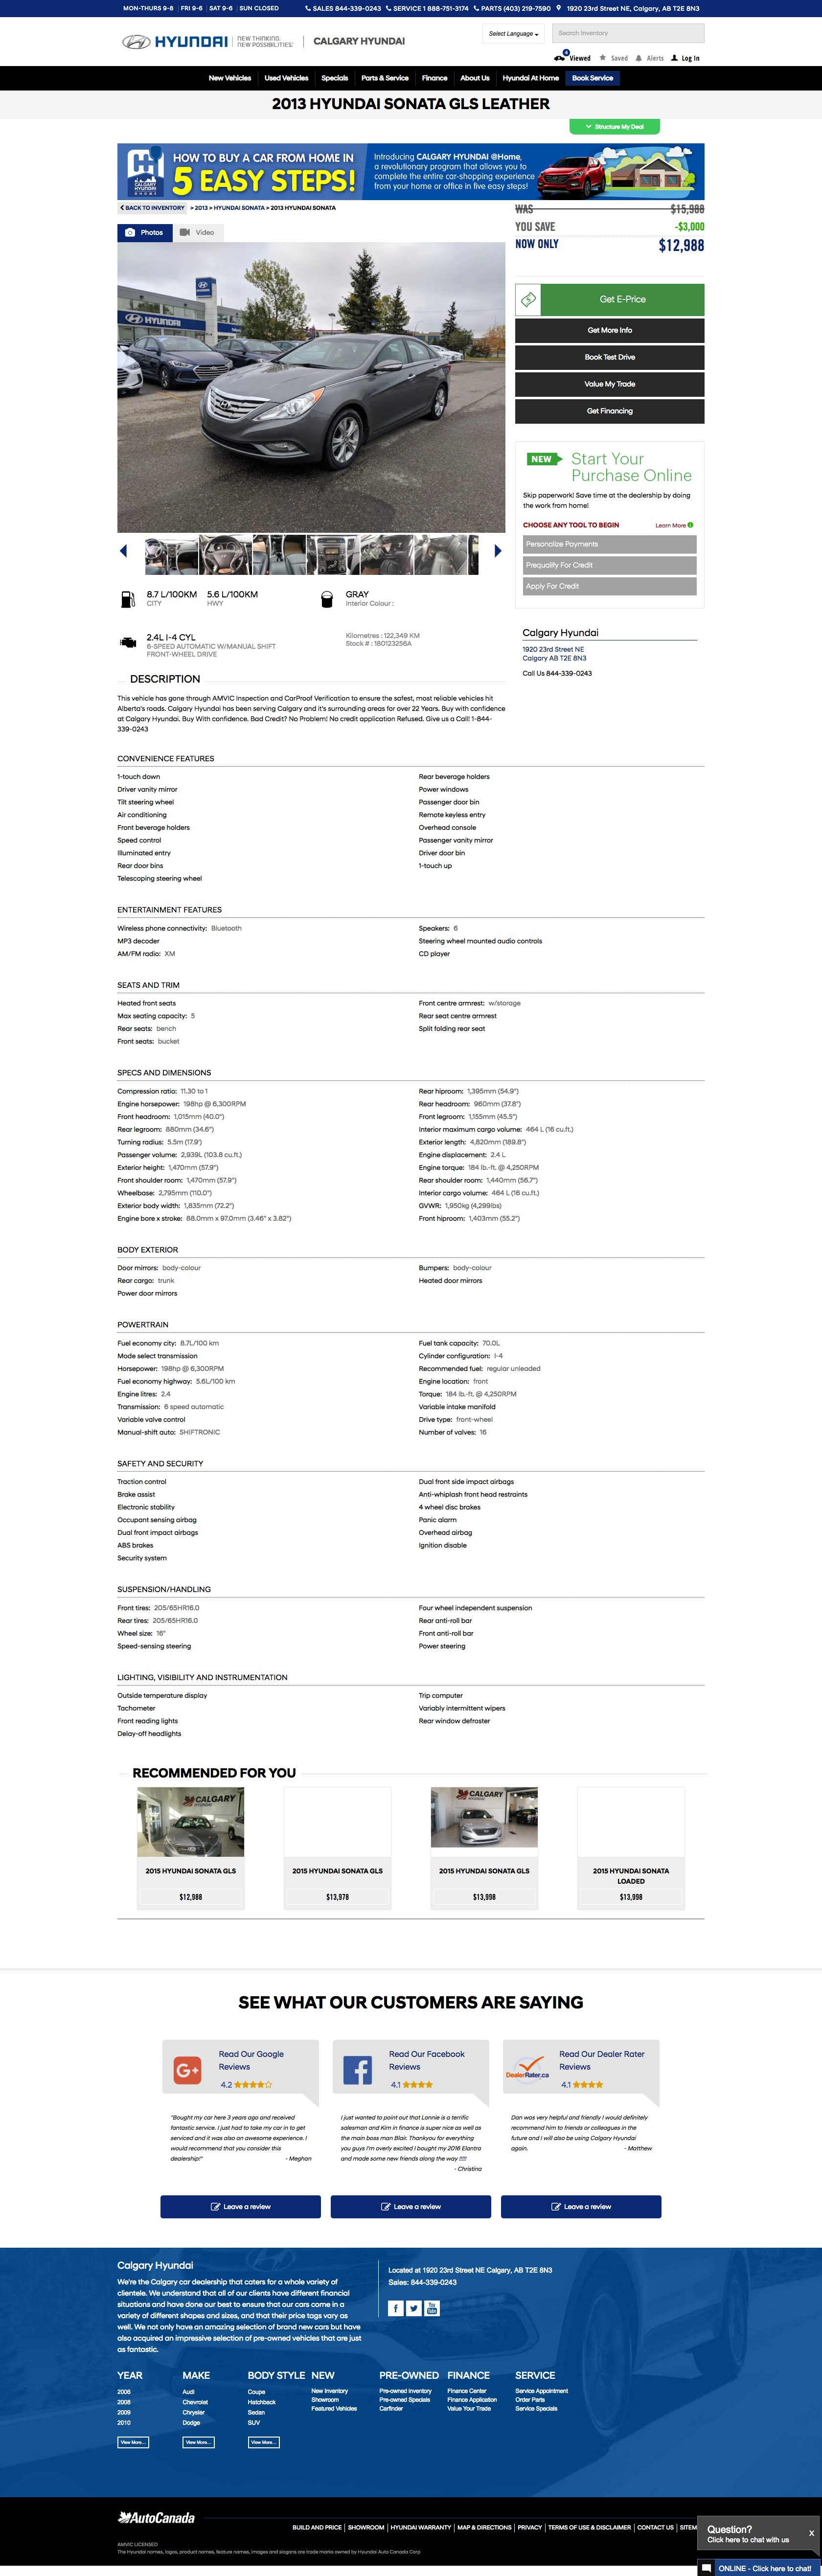car: (493, 544, 501, 559)
